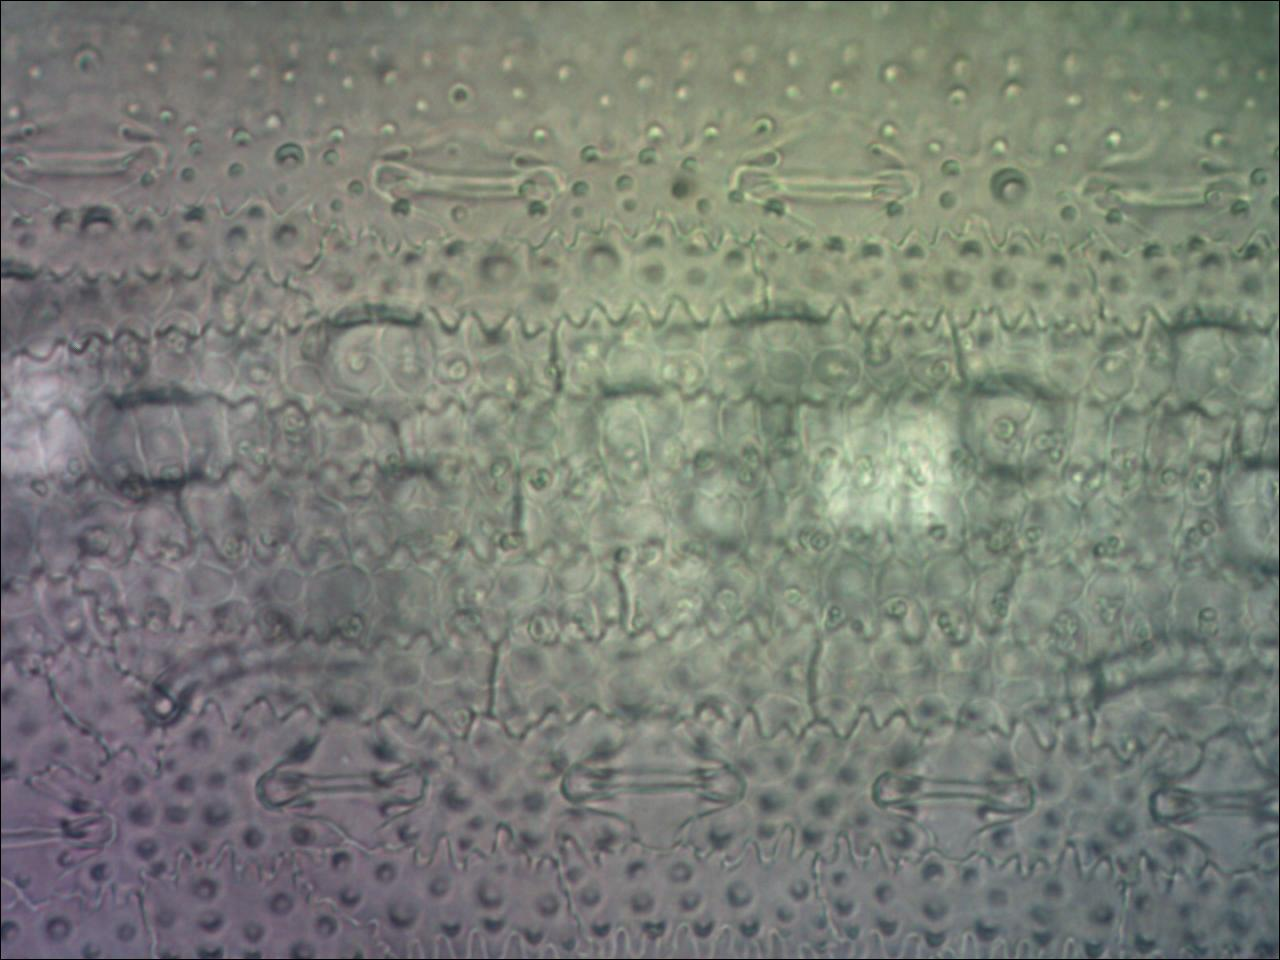stoma: (723, 123, 958, 250), (556, 719, 754, 853), (873, 726, 1040, 868), (246, 729, 438, 851), (368, 132, 567, 247), (1138, 723, 1280, 866), (1074, 143, 1251, 251), (1, 742, 130, 878), (1, 106, 172, 207)
